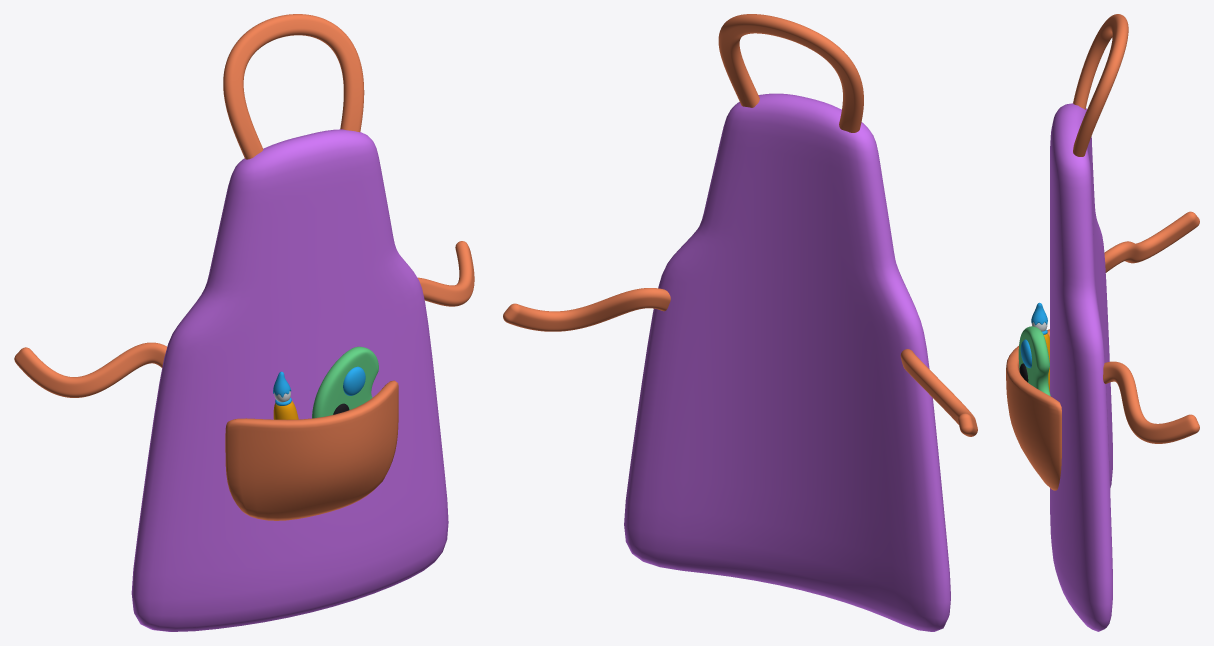
Rendered from 23. Crafting Apron.glb.
3 views of the same model, side by side, from view 1: azimuth 30°, elevation 25°; view 2: azimuth 150°, elevation 25°; view 3: azimuth 270°, elevation 25° (orthographic). The views are drawn at different scales.
Visible parts, largest first — view 1: Plane, Plane.001, BézierCircle, BézierCircle.001, Palette; view 2: Plane, BézierCircle, BézierCircle.001; view 3: Plane, BézierCircle.001, Plane.001, BézierCircle, Palette.
Part boxes in pixels (x1=…): Plane: x1=131, y1=129, x2=448, y2=631; Plane.001: x1=225, y1=380, x2=398, y2=520; BézierCircle: x1=223, y1=14, x2=364, y2=159; BézierCircle.001: x1=14, y1=241, x2=474, y2=397; Palette: x1=312, y1=346, x2=378, y2=418; Plane: x1=624, y1=93, x2=950, y2=631; BézierCircle: x1=718, y1=14, x2=863, y2=132; BézierCircle.001: x1=503, y1=288, x2=977, y2=436; Plane: x1=1050, y1=103, x2=1112, y2=631; BézierCircle.001: x1=1103, y1=211, x2=1199, y2=443; Plane.001: x1=1006, y1=329, x2=1061, y2=490; BézierCircle: x1=1073, y1=14, x2=1128, y2=156; Palette: x1=1018, y1=326, x2=1050, y2=395.
Bounding box in the file's own units: 0.4023 × 0.4869 × 0.1561.
